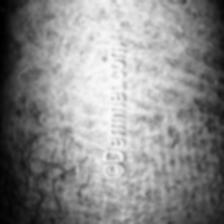Non-Cancerous Skin Condition: (135, 74, 218, 138)
